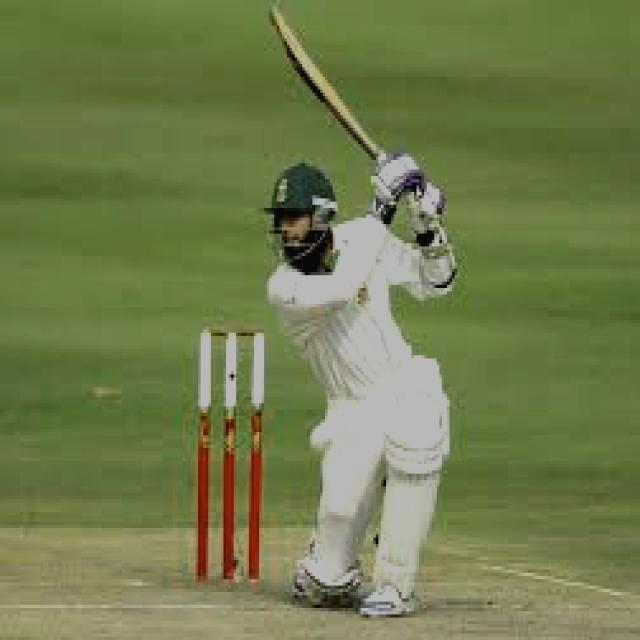bat: (262, 0, 390, 160)
toe: (263, 0, 285, 19)
